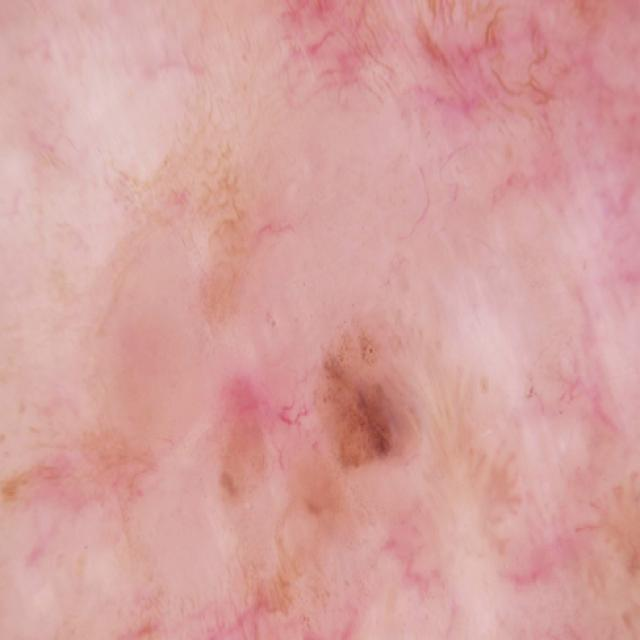Carcinoma: (136, 546, 594, 613), (310, 324, 460, 517), (0, 511, 30, 640)
